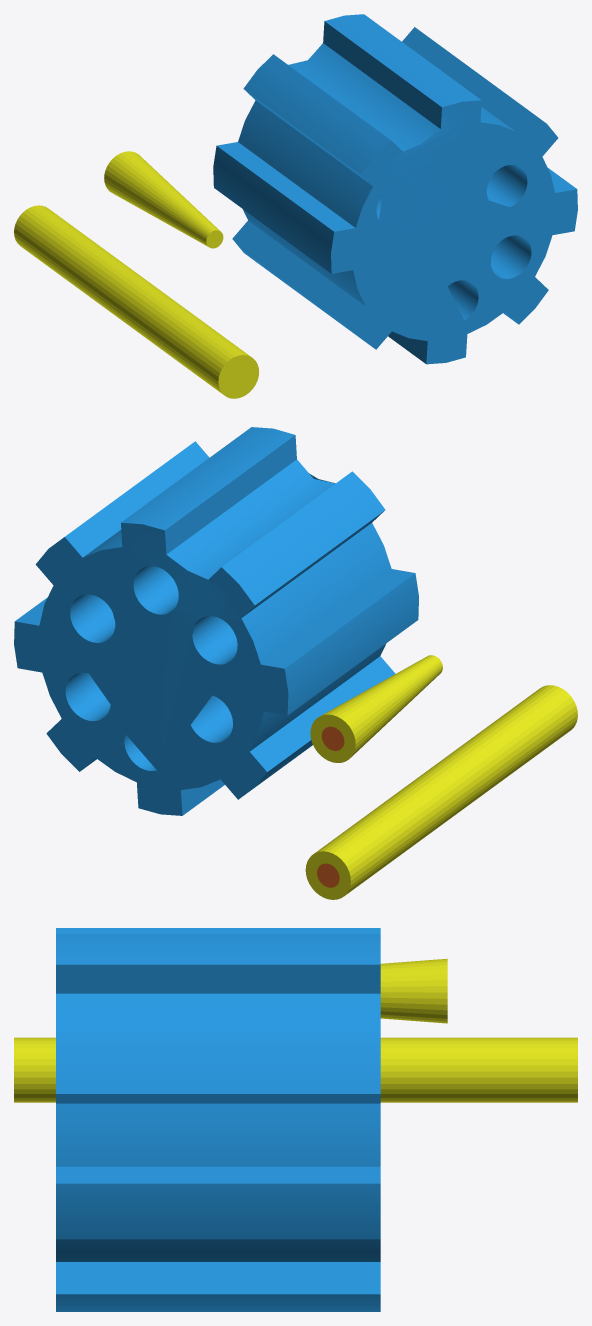
The model's file is assets.fbx.
3 renders of one model, top to bottom at view 1: azimuth 30°, elevation 25°; view 2: azimuth 150°, elevation 25°; view 3: azimuth 270°, elevation 25°, orthographic. The views are drawn at different scales.
Parts seen in each view (by area): view 1: Magazine, Cylinder.001, Bullet; view 2: Magazine, Cylinder.001, Bullet; view 3: Magazine, Cylinder.001, Bullet.
Boxes of the visible parts, x1,y1,x2,y2 form: Magazine: (213, 14, 577, 364); Cylinder.001: (14, 205, 258, 398); Bullet: (104, 151, 223, 248); Magazine: (14, 427, 418, 815); Cylinder.001: (305, 685, 577, 899); Bullet: (310, 655, 442, 762); Magazine: (56, 928, 380, 1311); Cylinder.001: (14, 1037, 577, 1102); Bullet: (380, 958, 447, 1023).
Size of the model in its own units: 368 by 241 by 347.
